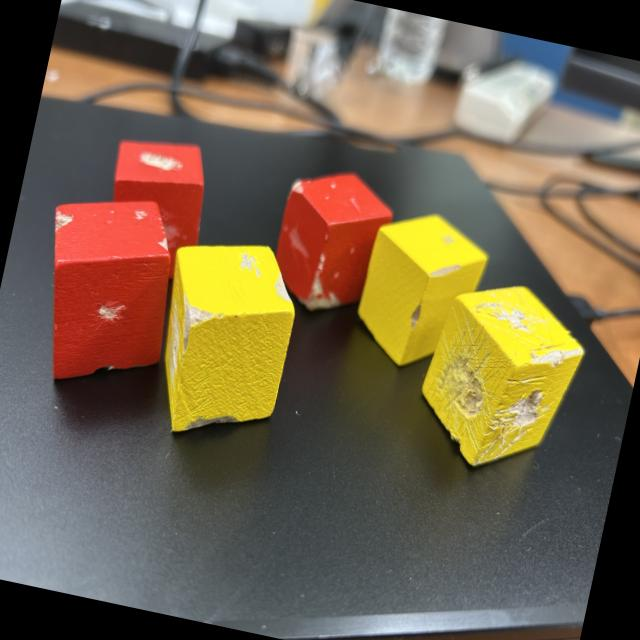broken: (408, 271, 594, 483), (19, 180, 192, 401), (139, 228, 308, 450), (348, 200, 494, 379), (264, 159, 400, 324), (93, 128, 218, 284)
